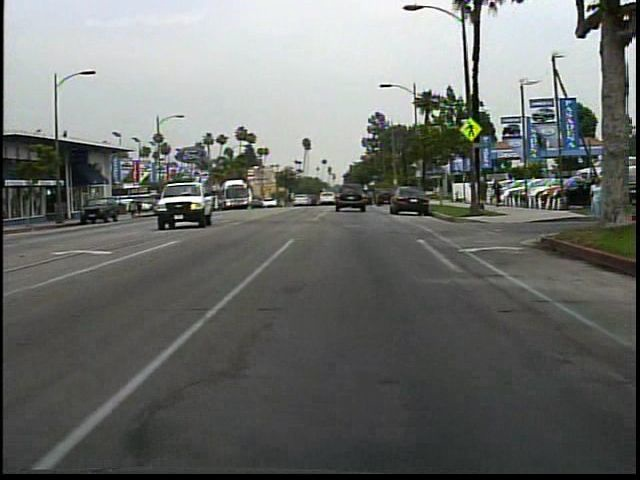person: (584, 172, 609, 230)
